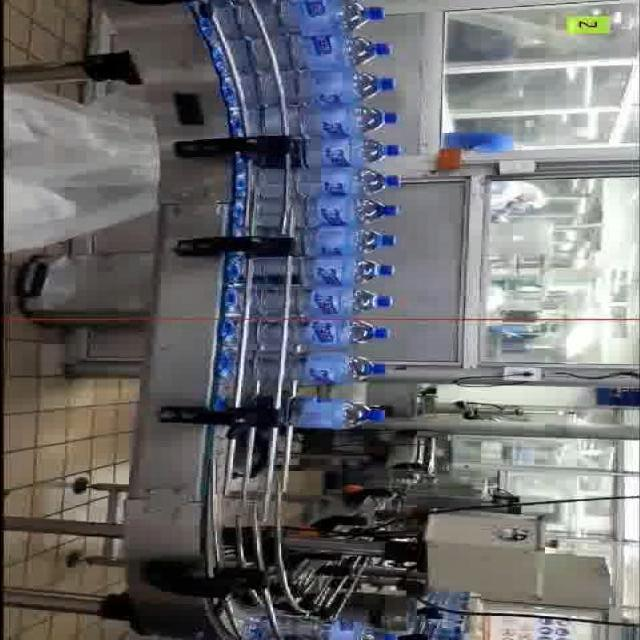bottle: (222, 284, 394, 324), (227, 253, 393, 290), (244, 31, 394, 71), (254, 67, 398, 106), (219, 0, 385, 33), (248, 349, 387, 387), (258, 102, 401, 138), (253, 316, 392, 348), (294, 134, 404, 168), (285, 395, 387, 431), (296, 193, 402, 227), (292, 165, 402, 197), (293, 224, 398, 257)
